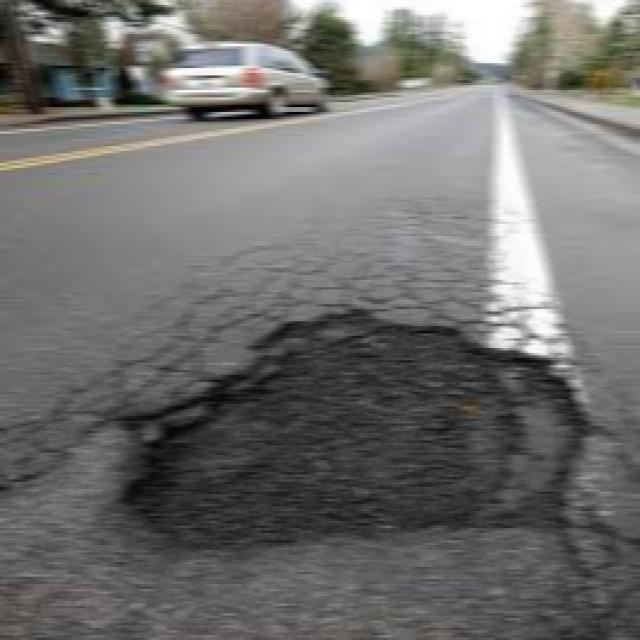Pothole: (110, 294, 598, 562)
